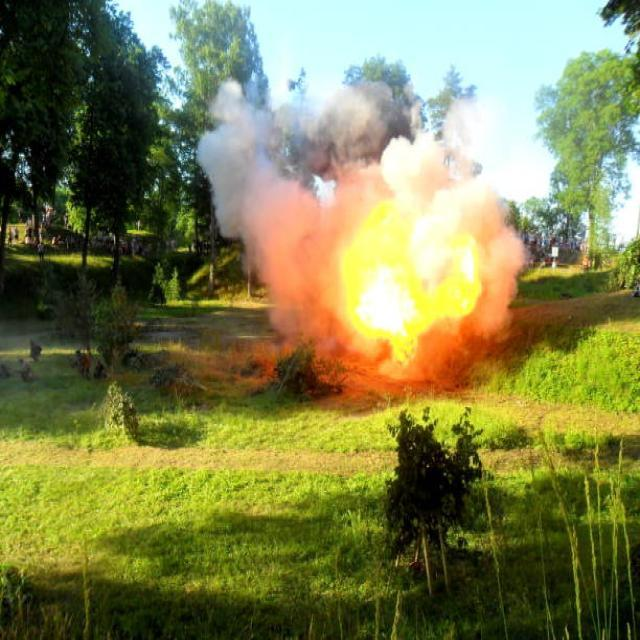Fire: (326, 204, 486, 365)
Smoke: (187, 62, 546, 316)
